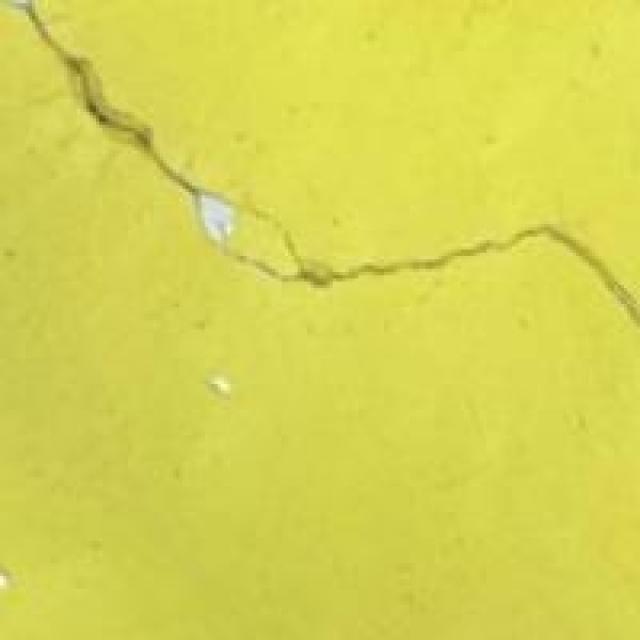crack: (13, 0, 637, 346)
